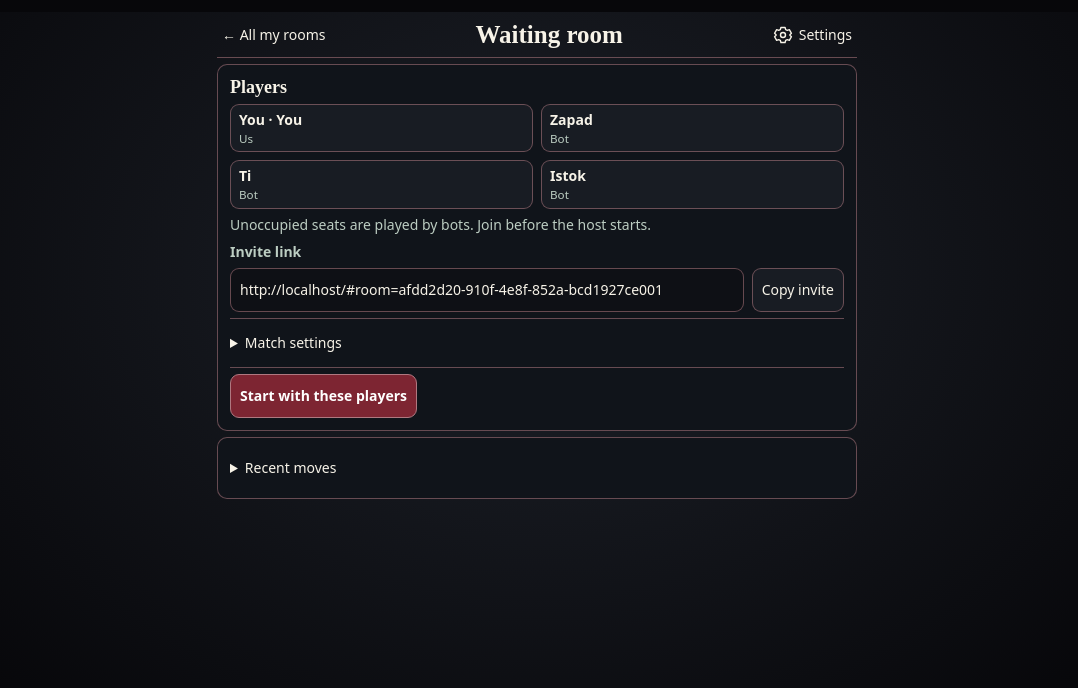
Scenario: returning from an invited room resets the join form and shows saved rooms
Expected: the heading "Waiting room" is shown, x1=475 y1=21 x2=623 y2=48
Click the button "← All my rooms".
click(274, 34)  # box x1=217 y1=12 x2=331 y2=56
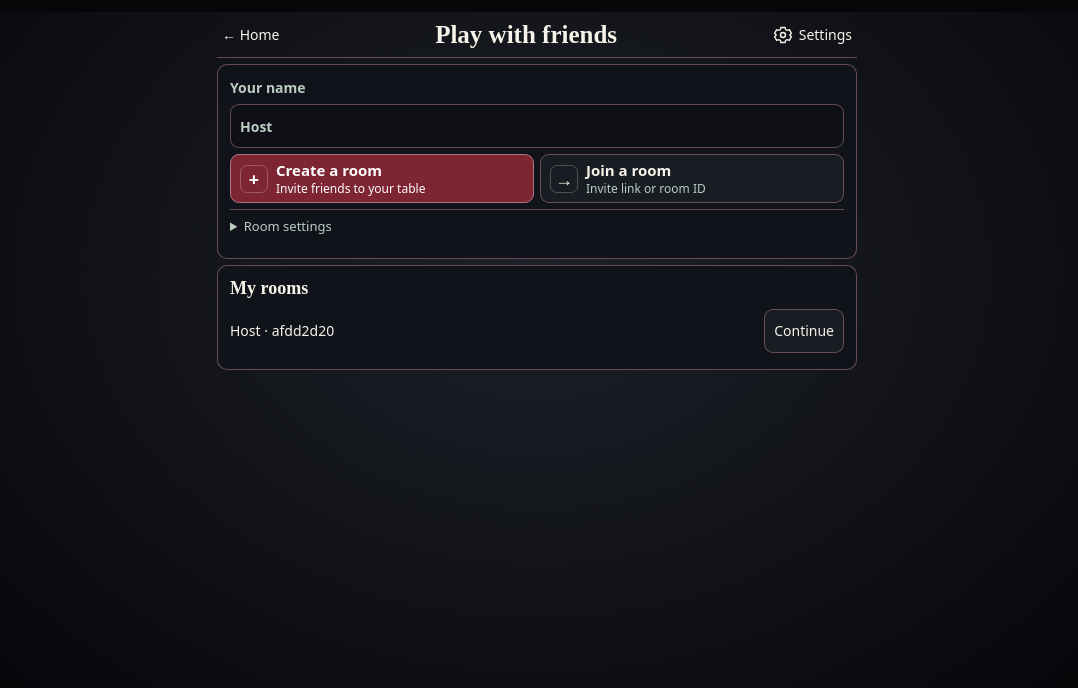
Expected: the button "Continue" is enabled, x1=764 y1=309 x2=844 y2=353
Expected: the button "Create a room" is enabled, x1=230 y1=154 x2=534 y2=203
